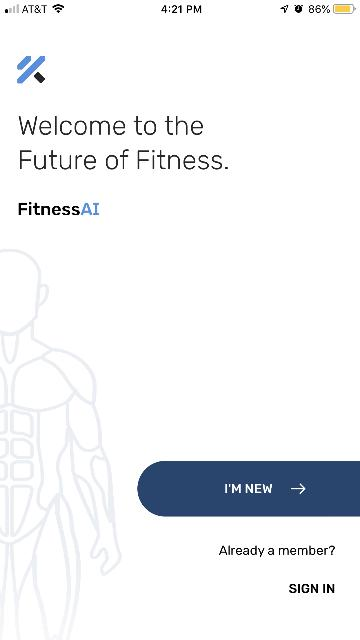Icon: (291, 484, 305, 494)
Image: (0, 248, 122, 640), (17, 56, 45, 84)
Text: (18, 116, 228, 170), (219, 545, 335, 557), (19, 202, 99, 215), (225, 483, 273, 493), (290, 583, 334, 593)
TextImageButton: (137, 461, 359, 517)
UpperTaskBar: (0, 0, 360, 14)
